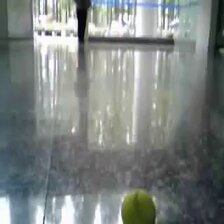tennis: (121, 190, 157, 224)
